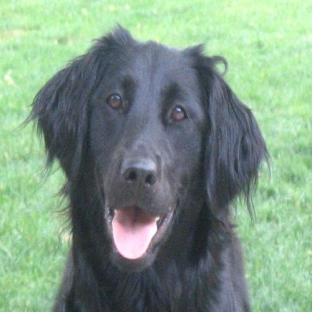Animal: (29, 27, 267, 311)
